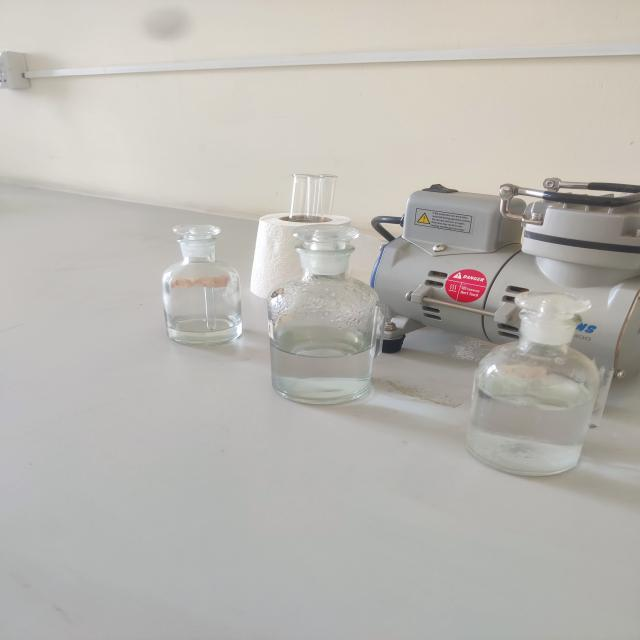Reagent_Bottle: (428, 280, 640, 498), (251, 221, 399, 418), (152, 210, 251, 361)
